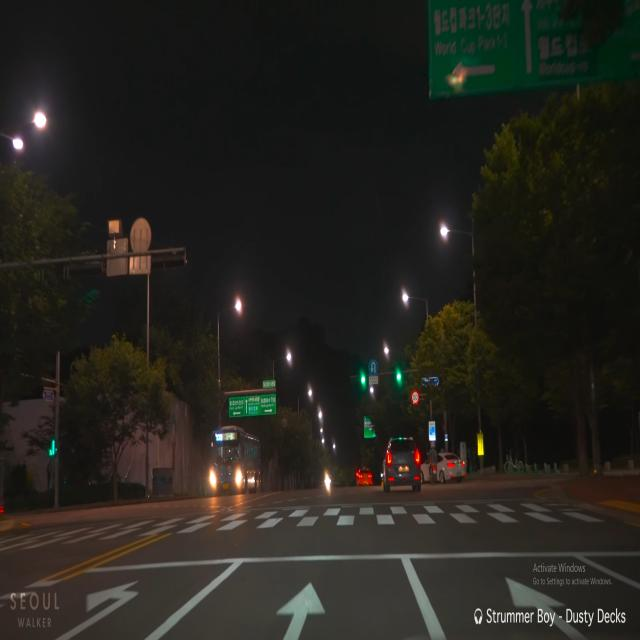headlights: (205, 465, 249, 495)
